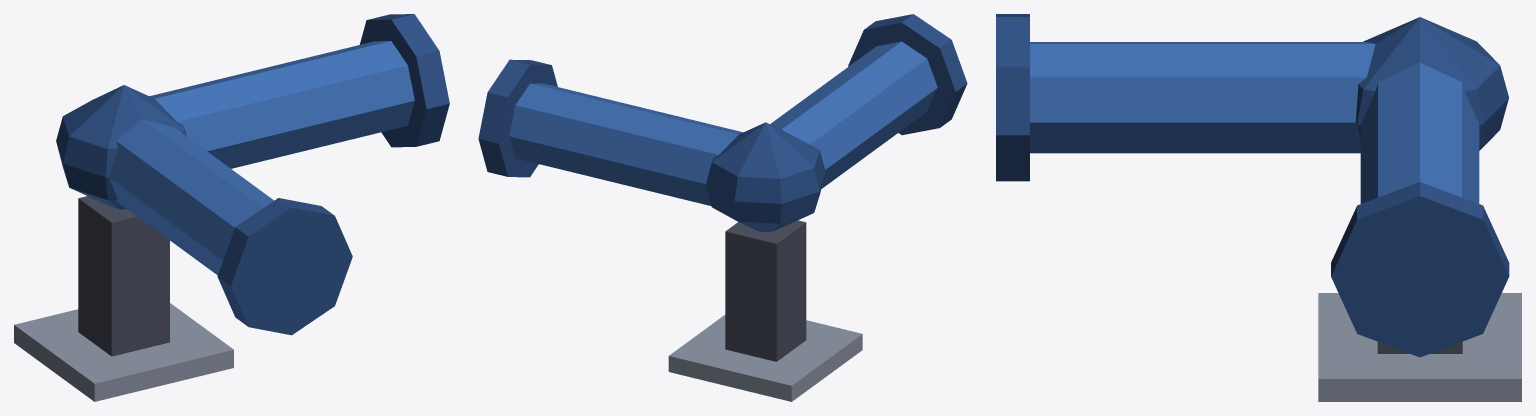
The model's file is water-pipe-elbow.glb.
3 views of the same model, side by side, from view 1: azimuth 30°, elevation 25°; view 2: azimuth 150°, elevation 25°; view 3: azimuth 270°, elevation 25° (orthographic). The views are drawn at different scales.
Visible parts, largest first — view 1: water-pipe-elbow; view 2: water-pipe-elbow; view 3: water-pipe-elbow.
Part boxes in pixels (bbox=[...]): water-pipe-elbow: bbox=[14, 14, 449, 401]; water-pipe-elbow: bbox=[478, 14, 967, 401]; water-pipe-elbow: bbox=[996, 14, 1521, 401].
Bounding box in the file's own units: 0.62 × 0.445 × 0.62.
Materials: 1 (1 with a texture image).
